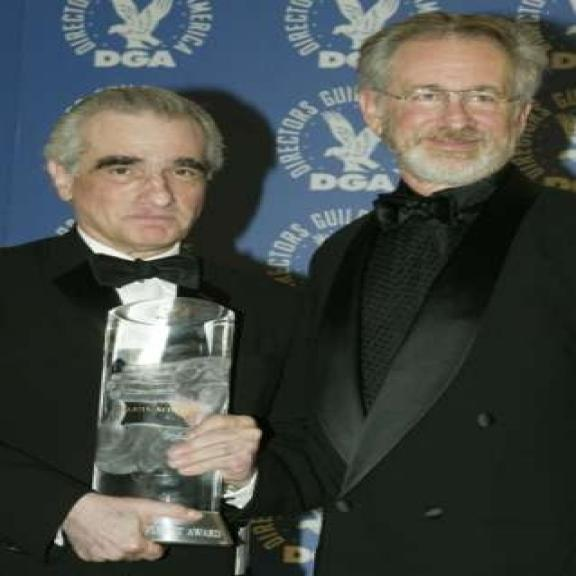face: (359, 32, 545, 186), (44, 108, 222, 252)
